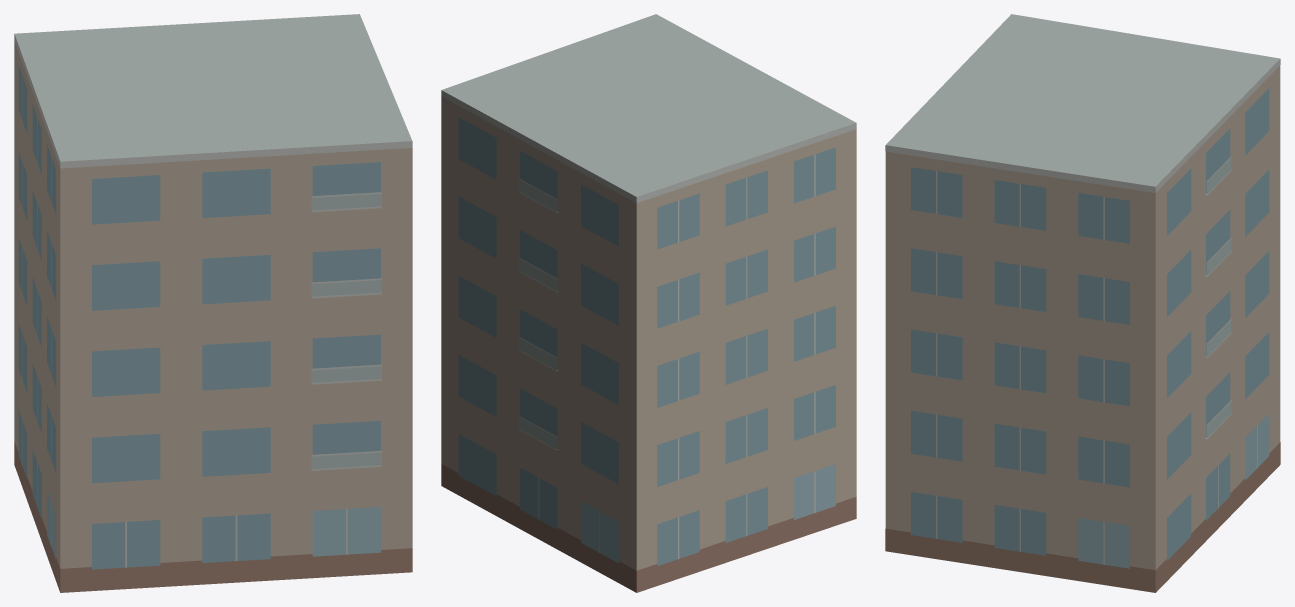
The model's file is survey-upis-32892218.glb.
The picture shows the model from 3 angles, left to right: view 1: azimuth 30°, elevation 25°; view 2: azimuth 150°, elevation 25°; view 3: azimuth 270°, elevation 25°; orthographic projection. The views are drawn at different scales.
Parts seen in each view (by area): view 1: survey-upis-32892218.tmp; view 2: survey-upis-32892218.tmp; view 3: survey-upis-32892218.tmp.
Part boxes in pixels (<box>): survey-upis-32892218.tmp: <box>14,14,412,592</box>; survey-upis-32892218.tmp: <box>441,14,856,592</box>; survey-upis-32892218.tmp: <box>885,14,1280,592</box>.
Bounding box in the file's own units: 14.2 × 15.55 × 13.72.
